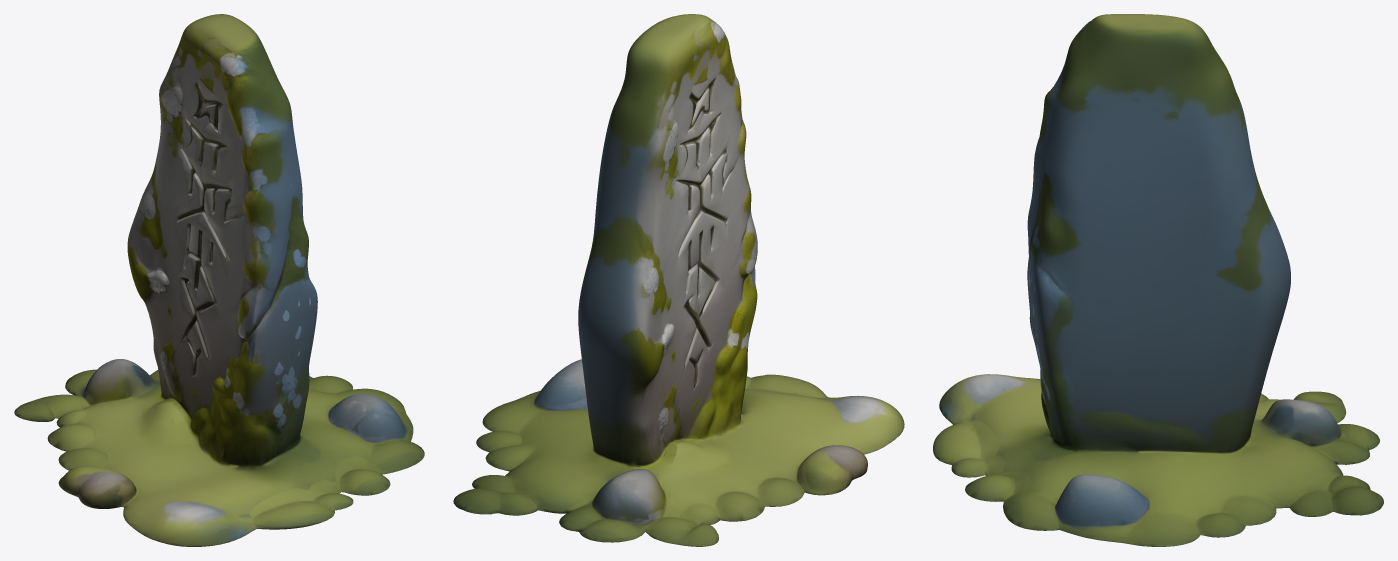
Rendered from StandingStone2.glb.
3 views of the same model, side by side, from view 1: azimuth 30°, elevation 25°; view 2: azimuth 150°, elevation 25°; view 3: azimuth 270°, elevation 25° (orthographic). The views are drawn at different scales.
Visible parts, largest first — view 1: node_0; view 2: node_0; view 3: node_0.
Part boxes in pixels (box(x1,y1,x2,y2)): node_0: box(14, 14, 424, 546); node_0: box(453, 14, 904, 546); node_0: box(933, 14, 1383, 546).
Bounding box in the file's own units: 0.6946 × 0.812 × 0.7561.
1 material, 1 textured.
